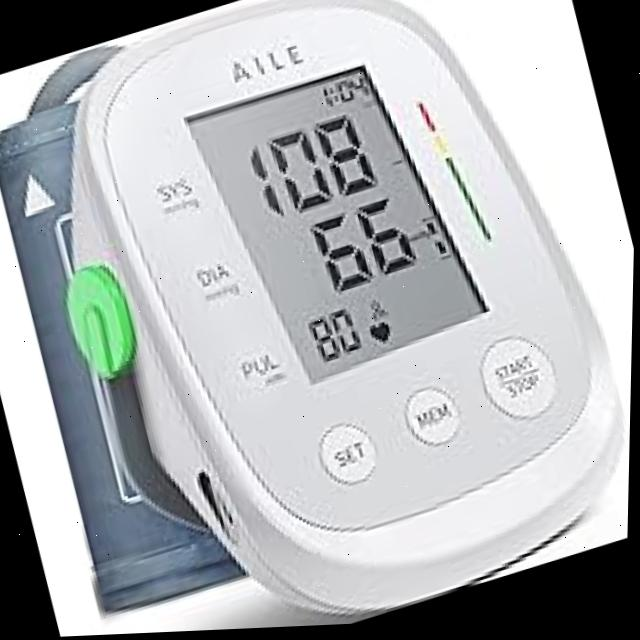dia: (294, 184, 435, 306)
pul: (292, 300, 378, 384)
ssd: (184, 39, 490, 401)
sys: (230, 96, 387, 232)
